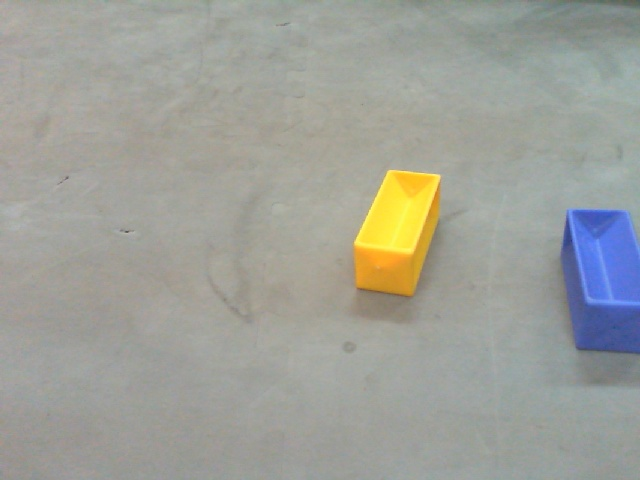BlueSample: (559, 201, 640, 356)
YellowSample: (350, 169, 443, 301)
